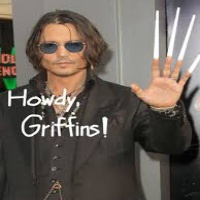ring: (172, 54, 182, 85)
